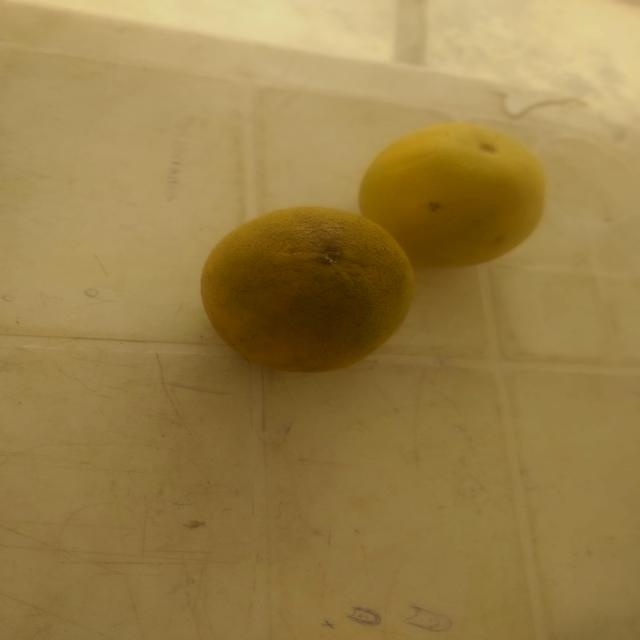agrume: (192, 210, 428, 384), (366, 129, 572, 283)
